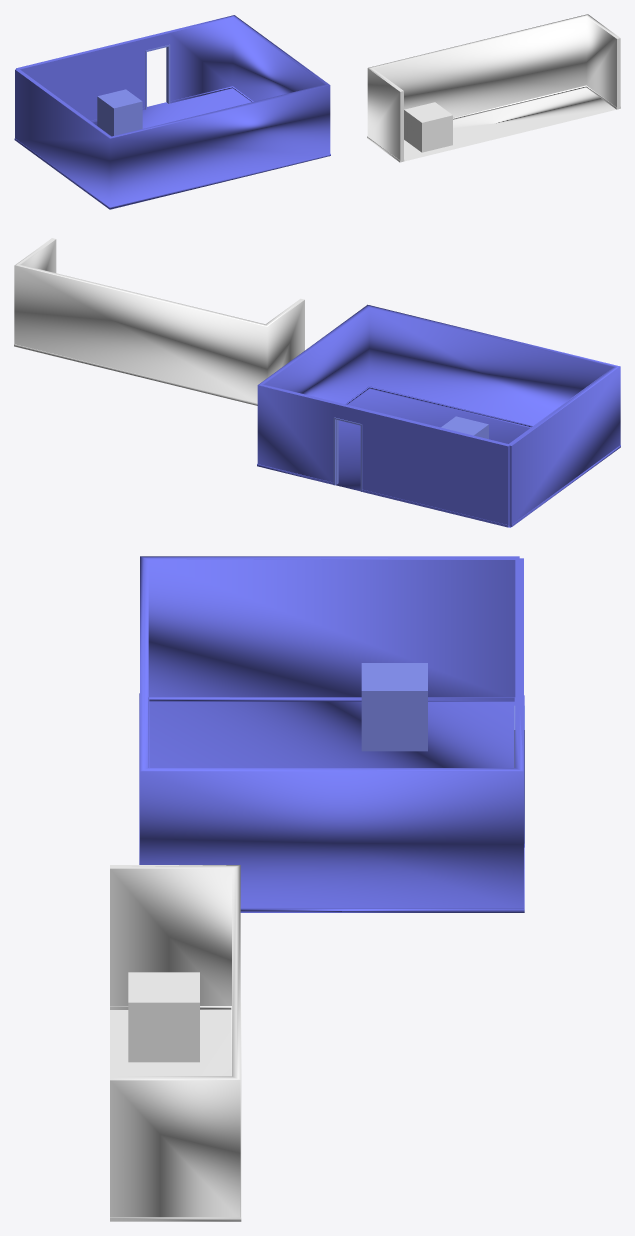
Rendered from piece01.gltf.
The picture shows the model from 3 angles, top to bottom: view 1: azimuth 30°, elevation 25°; view 2: azimuth 150°, elevation 25°; view 3: azimuth 270°, elevation 25°; orthographic projection. The views are drawn at different scales.
Visible parts, largest first — view 1: piece01, piece02; view 2: piece01, piece02; view 3: piece01, piece02.
Boxes of the visible parts, x1=… form: piece01: x1=14, y1=15, x2=330, y2=209; piece02: x1=367, y1=14, x2=620, y2=162; piece01: x1=257, y1=304, x2=620, y2=527; piece02: x1=14, y1=238, x2=304, y2=405; piece01: x1=139, y1=556, x2=524, y2=912; piece02: x1=110, y1=865, x2=241, y2=1221.
Size of the model in its own units: 187 by 31.74 by 66.61.
